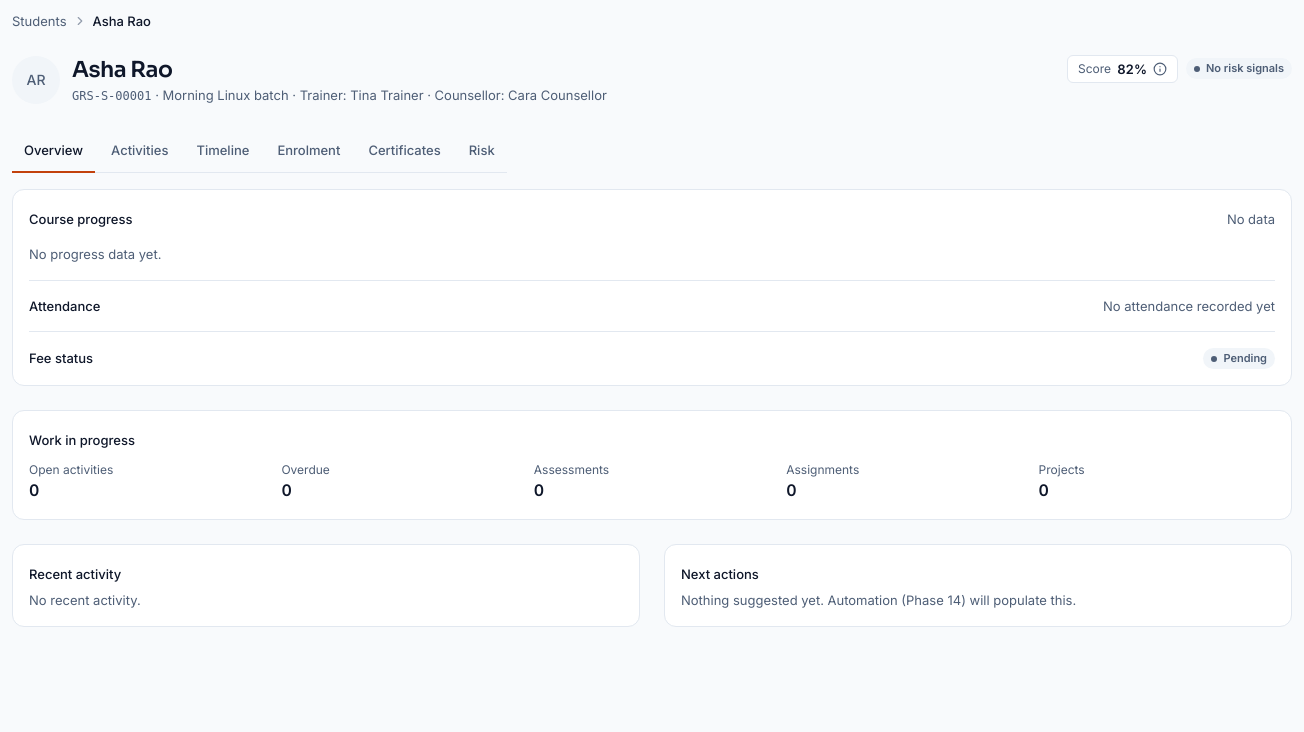
Student360Content › renders a real score and a "why" breakdown once Phase 12 supplies components
Click the text "82%". click: (1132, 69)
box: [1117,60,1147,78]
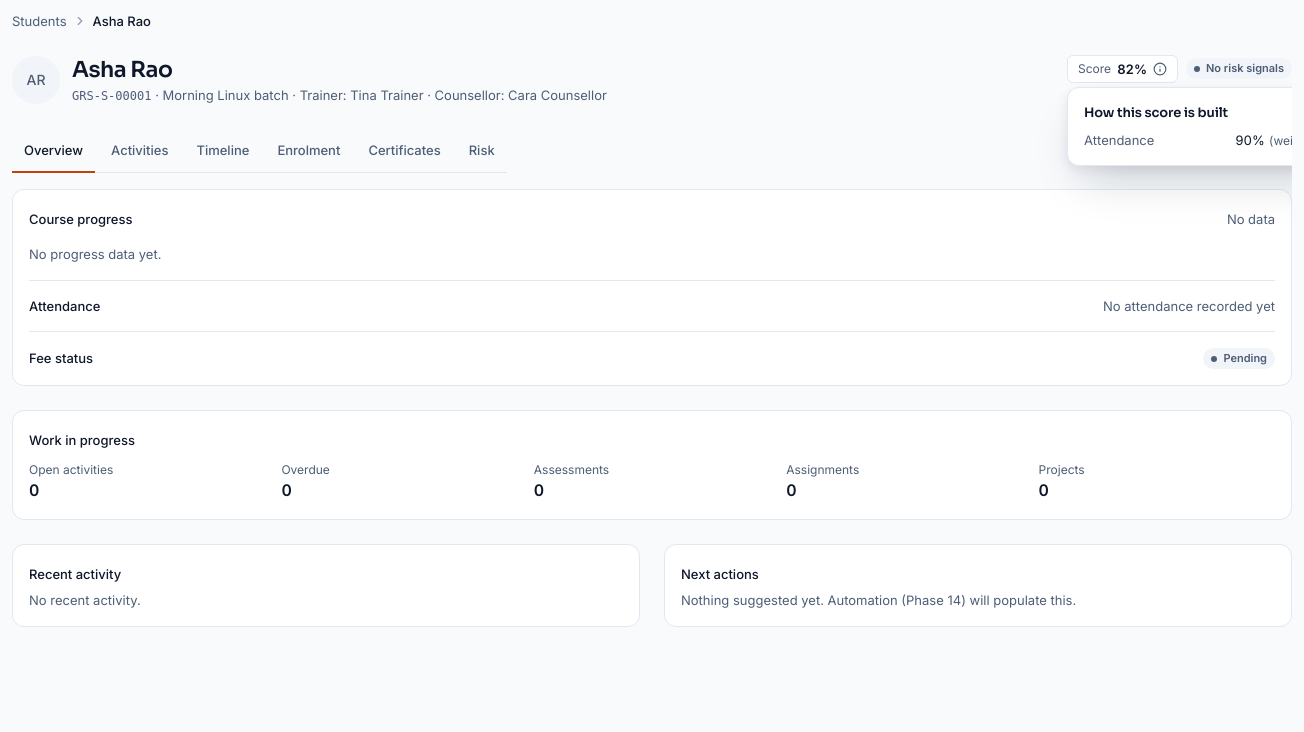
Expected: the text "Attendance" next to "90%" is shown, [1084,132,1154,148]
